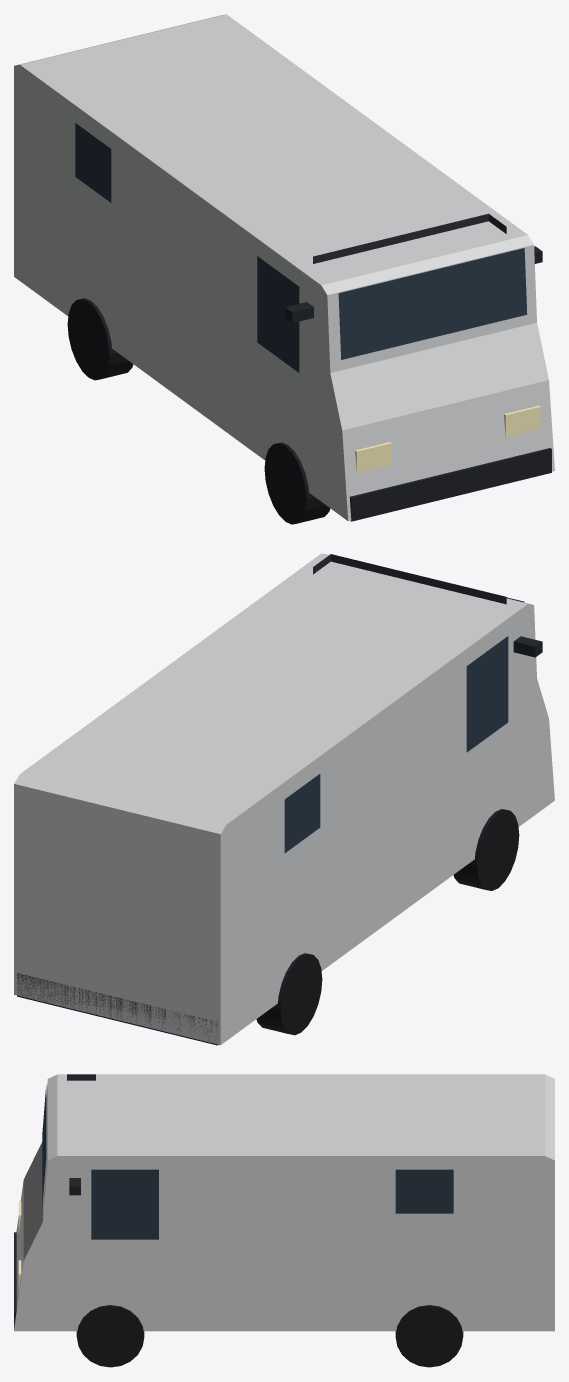
File: police_van.glb
3 views of the same model, one above another, from view 1: azimuth 30°, elevation 25°; view 2: azimuth 150°, elevation 25°; view 3: azimuth 270°, elevation 25° (orthographic). The views are drawn at different scales.
Visible parts, largest first — view 1: body, glass_screen, bumper_nose, glass_side.001, wheel_1_L_tyre, wheel_0_L_tyre, glass_side.003, beacon_bar, head_R, head_L; view 2: body, glass_side.001, wheel_1_L_tyre, wheel_0_L_tyre, bumper_tail, glass_side.003, beacon_bar; view 3: body, glass_side, wheel_1_R_tyre, wheel_0_R_tyre, glass_side.002, glass_screen.
Part boxes in pixels (x1,y1,x2,y2): body: (14, 14, 554, 521); glass_screen: (338, 248, 527, 359); bumper_nose: (349, 448, 551, 521); glass_side.001: (257, 256, 299, 372); wheel_1_L_tyre: (264, 442, 330, 524); wheel_0_L_tyre: (67, 298, 133, 380); glass_side.003: (75, 123, 111, 202); beacon_bar: (313, 213, 506, 263); head_R: (504, 405, 540, 436); head_L: (355, 442, 391, 472); body: (14, 553, 554, 1045); glass_side.001: (466, 636, 508, 752); wheel_1_L_tyre: (453, 809, 519, 890); wheel_0_L_tyre: (256, 953, 322, 1035); bumper_tail: (17, 973, 218, 1045); glass_side.003: (284, 774, 320, 853); beacon_bar: (313, 554, 506, 604); body: (14, 1074, 554, 1331); glass_side: (91, 1169, 158, 1239); wheel_1_R_tyre: (76, 1305, 144, 1367); wheel_0_R_tyre: (395, 1305, 463, 1367); glass_side.002: (395, 1169, 453, 1213); glass_screen: (42, 1085, 46, 1204).
Size of the model in its own units: 2.42 by 2.47 by 5.6.
